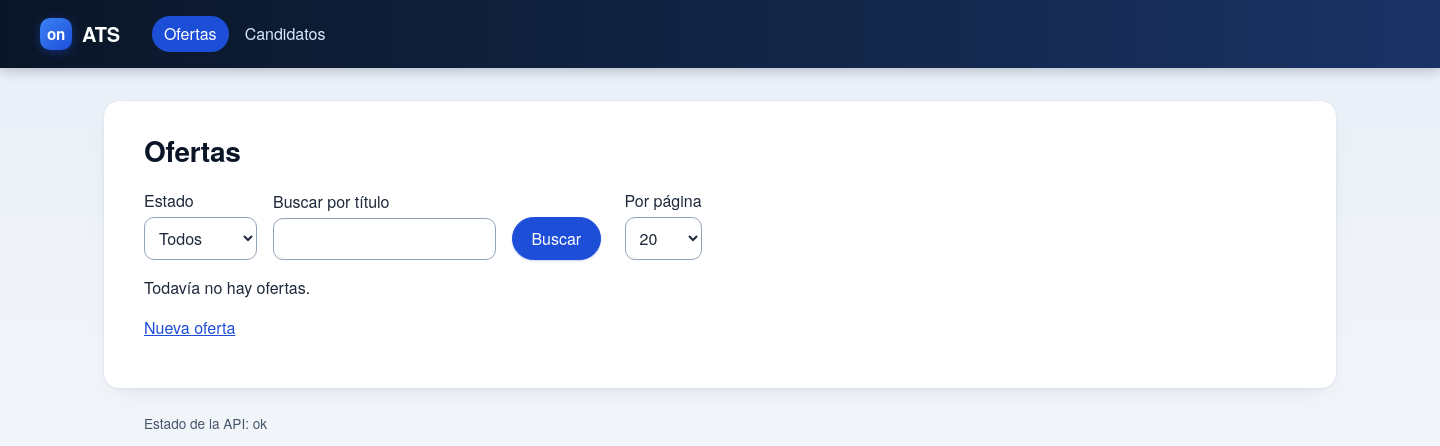
it: App › «Candidatos» en «Principal» lleva a /candidates con aria-current, título y foco en <main>
Expected: the text "Todavía no hay ofertas." is shown, [144,276,310,299]
Click the link "Candidatos". click: [285, 34]
box: [245,22,325,45]
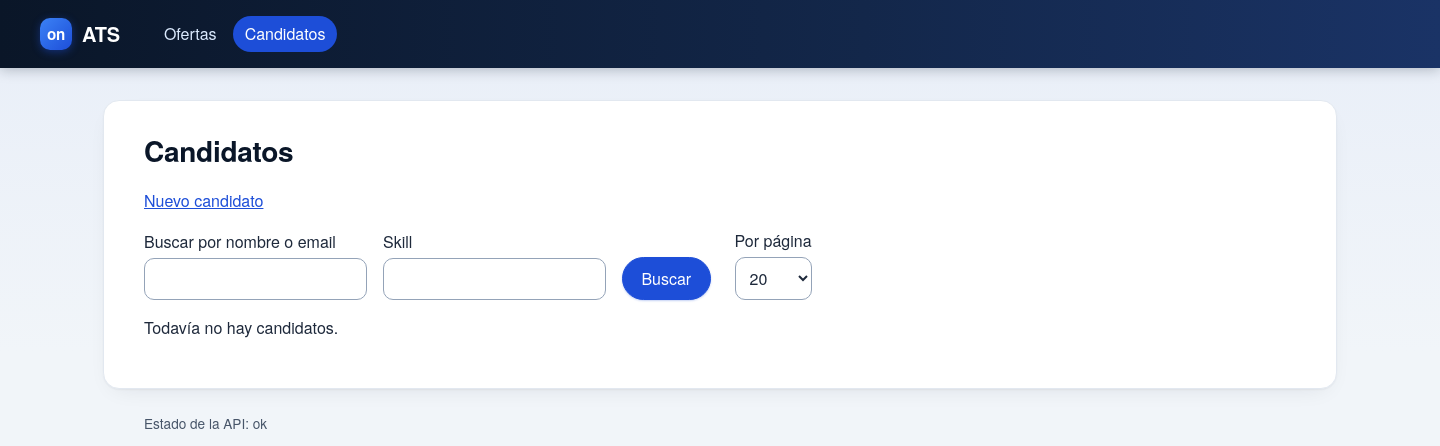
Now the heading "Candidatos" is shown, box [144,130,293,171]
Now the text "Todavía no hay candidatos." is shown, box [144,316,338,339]
